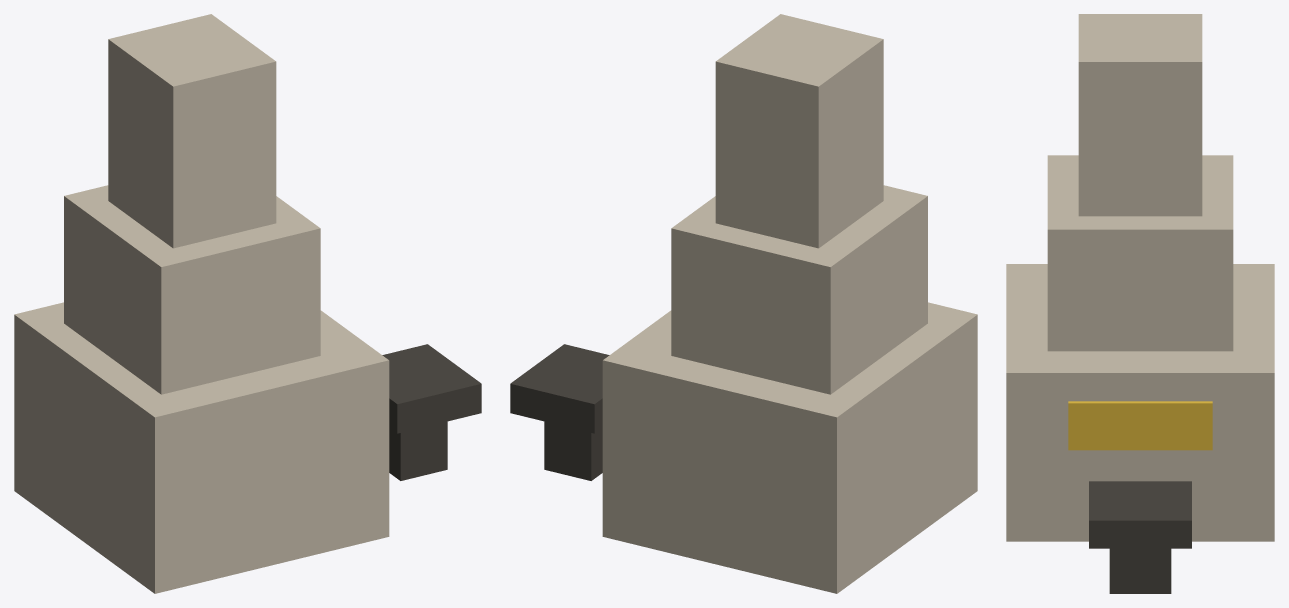
File: forge.glb
The picture shows the model from 3 angles, left to right: view 1: azimuth 30°, elevation 25°; view 2: azimuth 150°, elevation 25°; view 3: azimuth 270°, elevation 25°; orthographic projection. The views are drawn at different scales.
Visible parts, largest first — view 1: forge; view 2: forge; view 3: forge.
Part boxes in pixels (x1,y1,x2,y2): forge: [14, 14, 481, 593]; forge: [510, 14, 977, 593]; forge: [1006, 14, 1274, 593].
Size of the model in its own units: 0.79 by 0.95 by 0.52.
